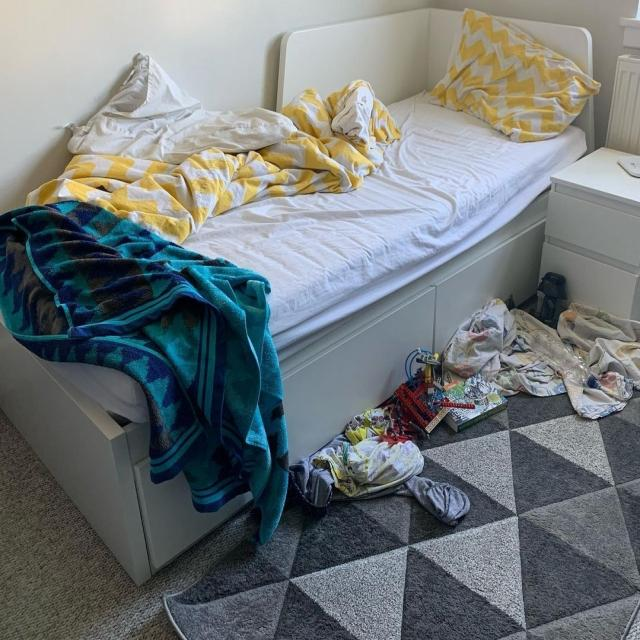bed: (0, 0, 591, 396)
